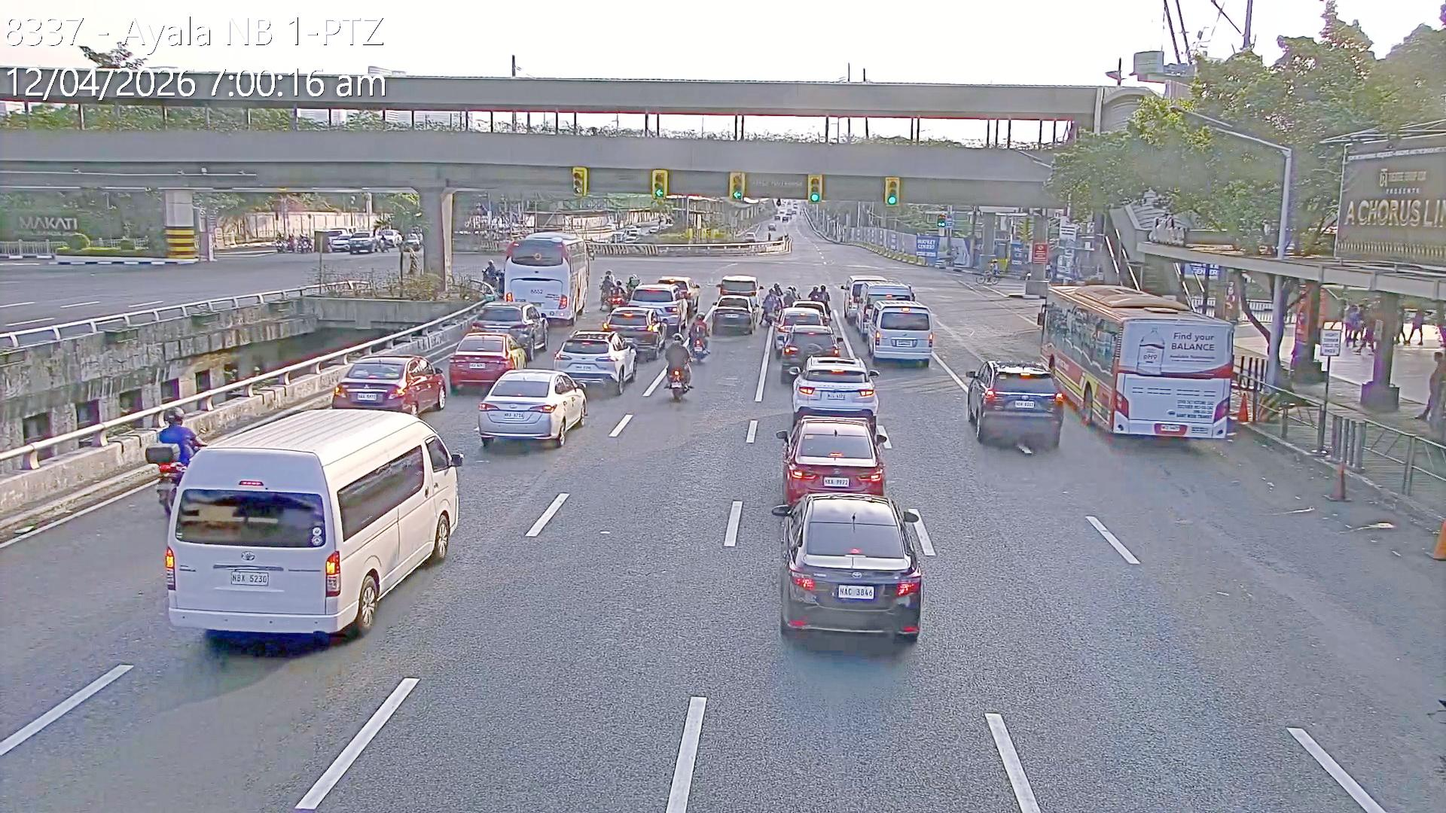Car: (156, 401, 476, 655), (769, 486, 934, 658), (473, 369, 591, 450), (780, 409, 885, 500), (966, 358, 1059, 449), (331, 354, 450, 419), (789, 361, 878, 429), (550, 333, 636, 400), (449, 331, 532, 393), (472, 300, 550, 362), (865, 297, 935, 364), (774, 320, 843, 378), (625, 282, 689, 339), (604, 304, 668, 359), (858, 278, 917, 337), (841, 273, 887, 324), (708, 294, 757, 336), (714, 269, 759, 309), (786, 299, 832, 332), (348, 230, 375, 256), (400, 230, 425, 253), (329, 231, 352, 254)
Motor: (142, 391, 206, 513), (662, 334, 697, 400), (686, 307, 711, 364), (476, 254, 503, 298), (605, 276, 627, 313), (596, 266, 614, 308), (761, 288, 777, 326), (625, 273, 642, 298), (376, 233, 390, 256)
Not Accident: (958, 279, 1237, 465), (781, 354, 932, 653), (450, 241, 646, 465), (326, 324, 525, 416), (597, 256, 714, 395), (838, 267, 942, 375), (763, 271, 843, 393)
